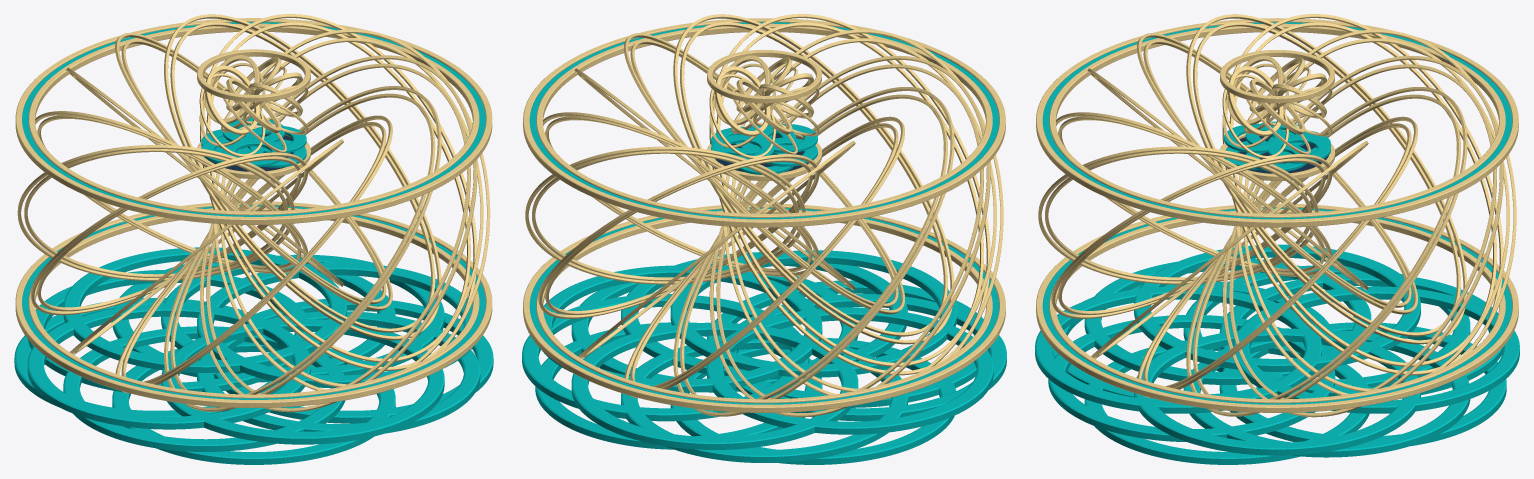
3 renders of one model, left to right at view 1: azimuth 30°, elevation 25°; view 2: azimuth 150°, elevation 25°; view 3: azimuth 270°, elevation 25°, orthographic.
Visible parts, largest first — view 1: Pattern_A2_9, Pattern_A1_8, Pattern_A0_7, Pattern_C3_11, Pattern_C2_10, Pattern_C4_12, Pattern_B1_16, Pattern_C1_18, Pattern_B2_17, Pattern_B0_15; view 2: Pattern_A2_9, Pattern_A1_8, Pattern_A0_7, Pattern_C3_11, Pattern_C2_10, Pattern_C4_12, Pattern_B1_16, Pattern_C1_18, Pattern_B2_17, Pattern_B0_15; view 3: Pattern_A2_9, Pattern_A1_8, Pattern_A0_7, Pattern_C3_11, Pattern_C2_10, Pattern_C4_12, Pattern_B1_16, Pattern_C1_18, Pattern_B2_17, Pattern_B0_15.
Boxes of the visible parts, <box> form: Pattern_A2_9: <box>14,247,493,464</box>; Pattern_A1_8: <box>17,14,490,412</box>; Pattern_A0_7: <box>24,22,483,394</box>; Pattern_C3_11: <box>15,18,492,407</box>; Pattern_C2_10: <box>28,23,479,398</box>; Pattern_C4_12: <box>22,22,485,399</box>; Pattern_B1_16: <box>205,55,302,134</box>; Pattern_C1_18: <box>197,49,310,178</box>; Pattern_B2_17: <box>201,117,306,167</box>; Pattern_B0_15: <box>199,63,308,156</box>; Pattern_A2_9: <box>522,250,1006,464</box>; Pattern_A1_8: <box>525,14,1003,417</box>; Pattern_A0_7: <box>532,22,996,399</box>; Pattern_C3_11: <box>523,18,1005,412</box>; Pattern_C2_10: <box>536,23,992,403</box>; Pattern_C4_12: <box>529,22,999,404</box>; Pattern_B1_16: <box>715,55,813,136</box>; Pattern_C1_18: <box>707,50,821,180</box>; Pattern_B2_17: <box>711,124,817,174</box>; Pattern_B0_15: <box>709,63,819,158</box>; Pattern_A2_9: <box>1035,244,1519,464</box>; Pattern_A1_8: <box>1038,14,1516,417</box>; Pattern_A0_7: <box>1045,22,1509,399</box>; Pattern_C3_11: <box>1036,18,1518,412</box>; Pattern_C2_10: <box>1049,23,1505,403</box>; Pattern_C4_12: <box>1042,22,1512,404</box>; Pattern_B1_16: <box>1228,55,1326,136</box>; Pattern_C1_18: <box>1220,50,1334,180</box>; Pattern_B2_17: <box>1224,121,1330,171</box>; Pattern_B0_15: <box>1222,63,1332,158</box>.
Bounding box in the file's own units: 7.35 × 4.99 × 7.35.
Materials: 3 (1 with a texture image).
